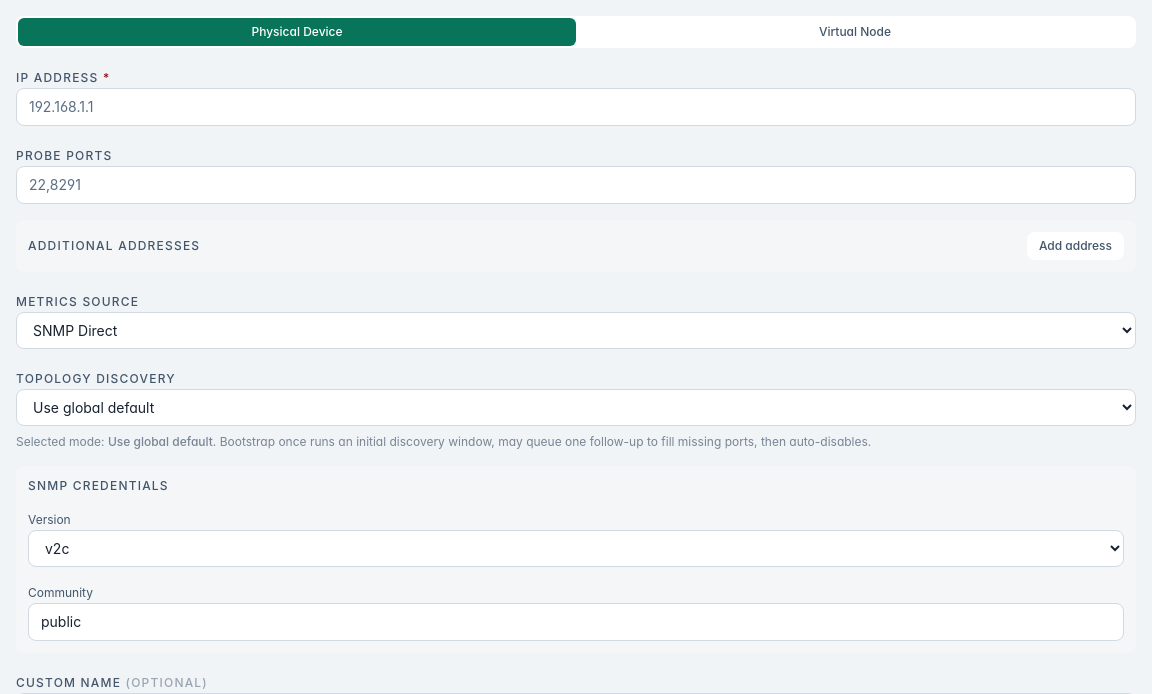
virtual mode › shows subtype cards in virtual mode
Click the button "Virtual Node".
click(855, 32)  # box [576,18,1134,46]
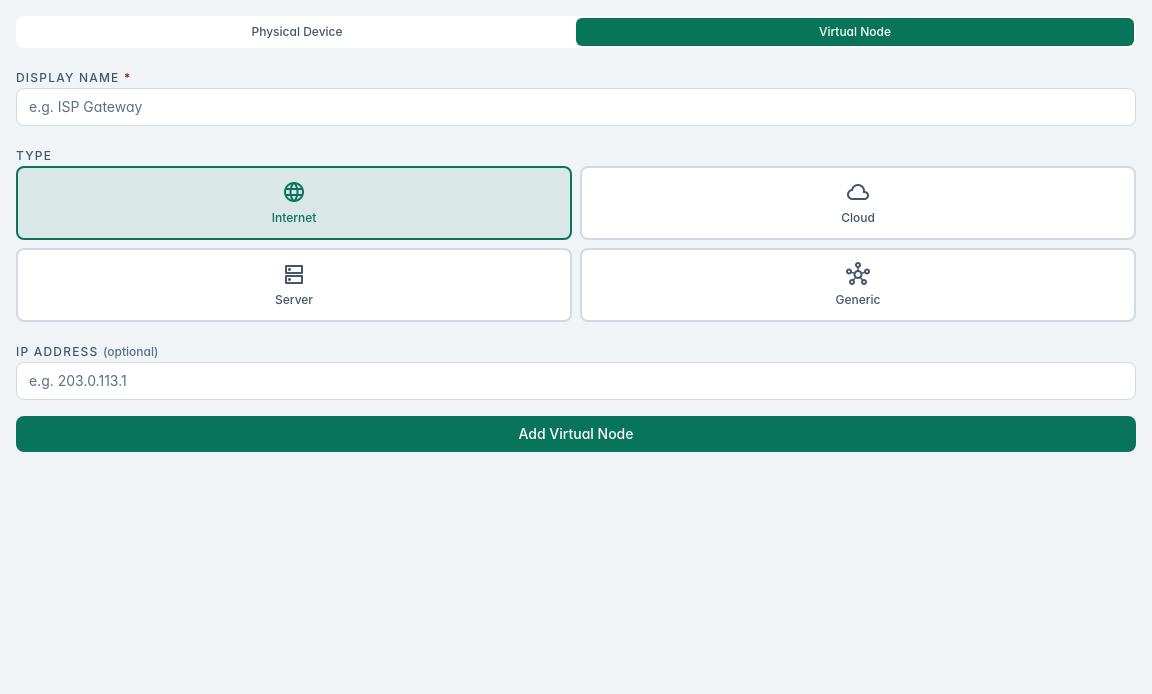
Result: the text "Internet" is shown at [272,210,316,226]
Result: the text "Cloud" is shown at [841,210,875,226]
Result: the text "Server" is shown at [275,292,313,308]
